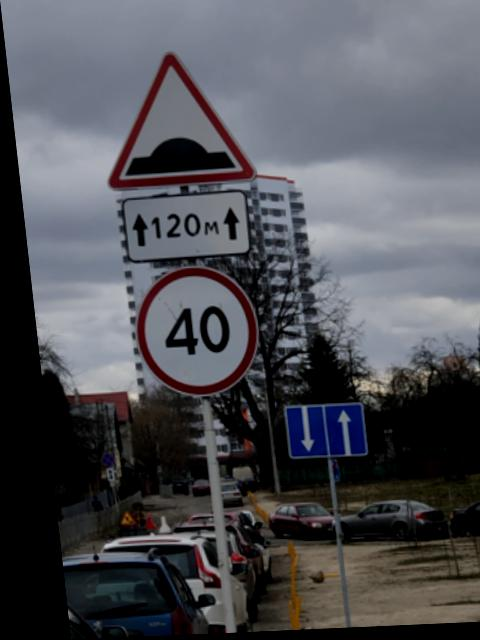limit40: (121, 259, 260, 406)
